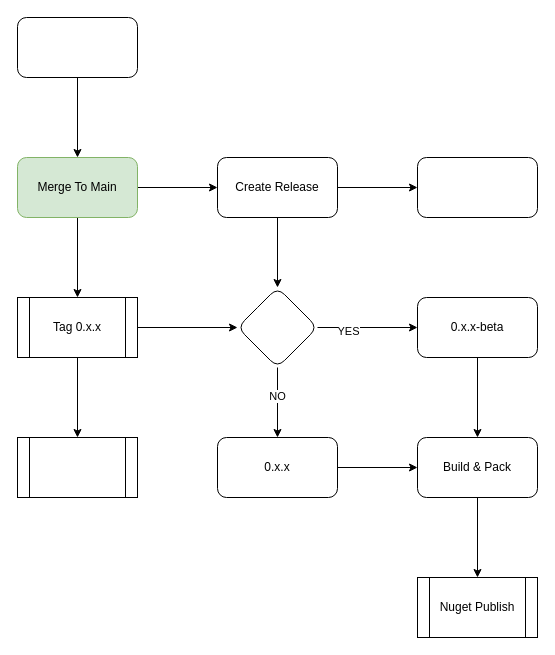
The diagram is 555 pixels wide and 655 high, and some of its shapes have lost their labels. Here are the shapes that lost their labels. From the top down, the centre of each, then its label:
(x=77, y=47): Branch
(x=477, y=187): Package Main
(x=277, y=327): Beta
(x=77, y=467): Build & Test
